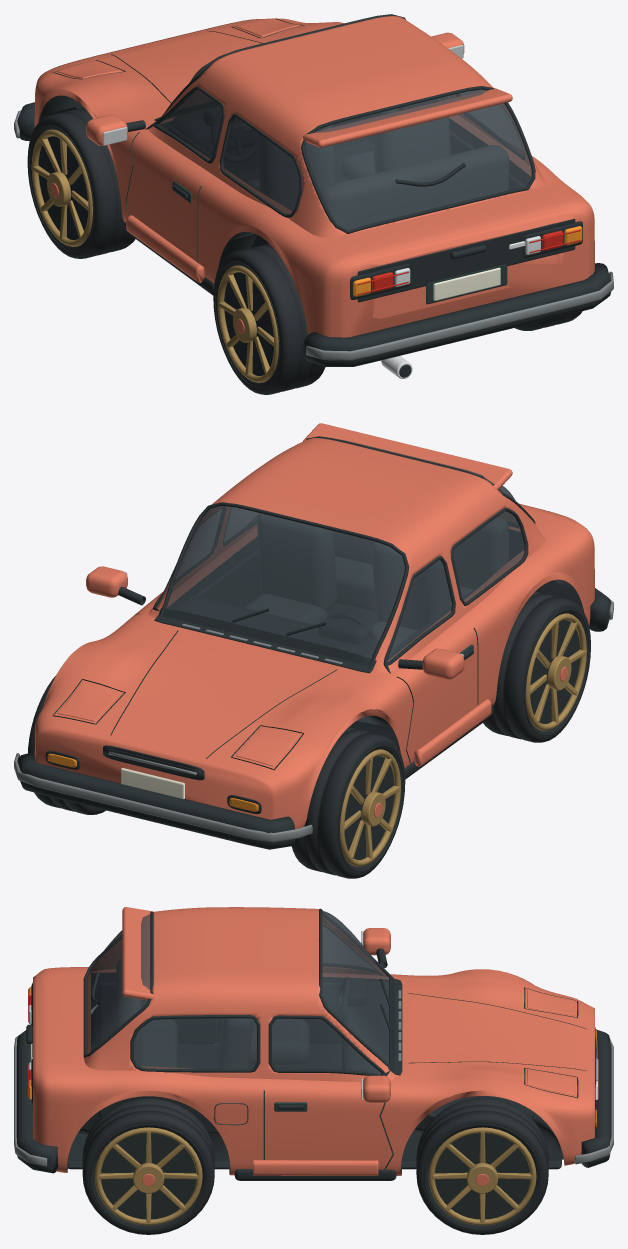
The model's file is hachi.fbx.
3 renders of one model, top to bottom at view 1: azimuth 30°, elevation 25°; view 2: azimuth 150°, elevation 25°; view 3: azimuth 270°, elevation 25°, orthographic. The views are drawn at different scales.
Visible parts, largest first — view 1: Body, Wheel_RL_Mesh, Wheel_FL_Mesh; view 2: Body, Wheel_FL_Mesh, Wheel_RL_Mesh, Wheel_FR_Mesh; view 3: Body, Wheel_FR_Mesh, Wheel_RR_Mesh.
Part boxes in pixels (x1=…): Body: x1=14, y1=14, x2=613, y2=378; Wheel_RL_Mesh: x1=213, y1=243, x2=325, y2=394; Wheel_FL_Mesh: x1=27, y1=107, x2=135, y2=258; Body: x1=14, y1=423, x2=613, y2=849; Wheel_FL_Mesh: x1=291, y1=727, x2=405, y2=878; Wheel_RL_Mesh: x1=483, y1=591, x2=590, y2=742; Wheel_FR_Mesh: x1=28, y1=676, x2=105, y2=814; Body: x1=14, y1=907, x2=613, y2=1180; Wheel_FR_Mesh: x1=416, y1=1098, x2=548, y2=1234; Wheel_RR_Mesh: x1=82, y1=1098, x2=214, y2=1234.
Bounding box in the file's own units: 231 × 151 × 363.
